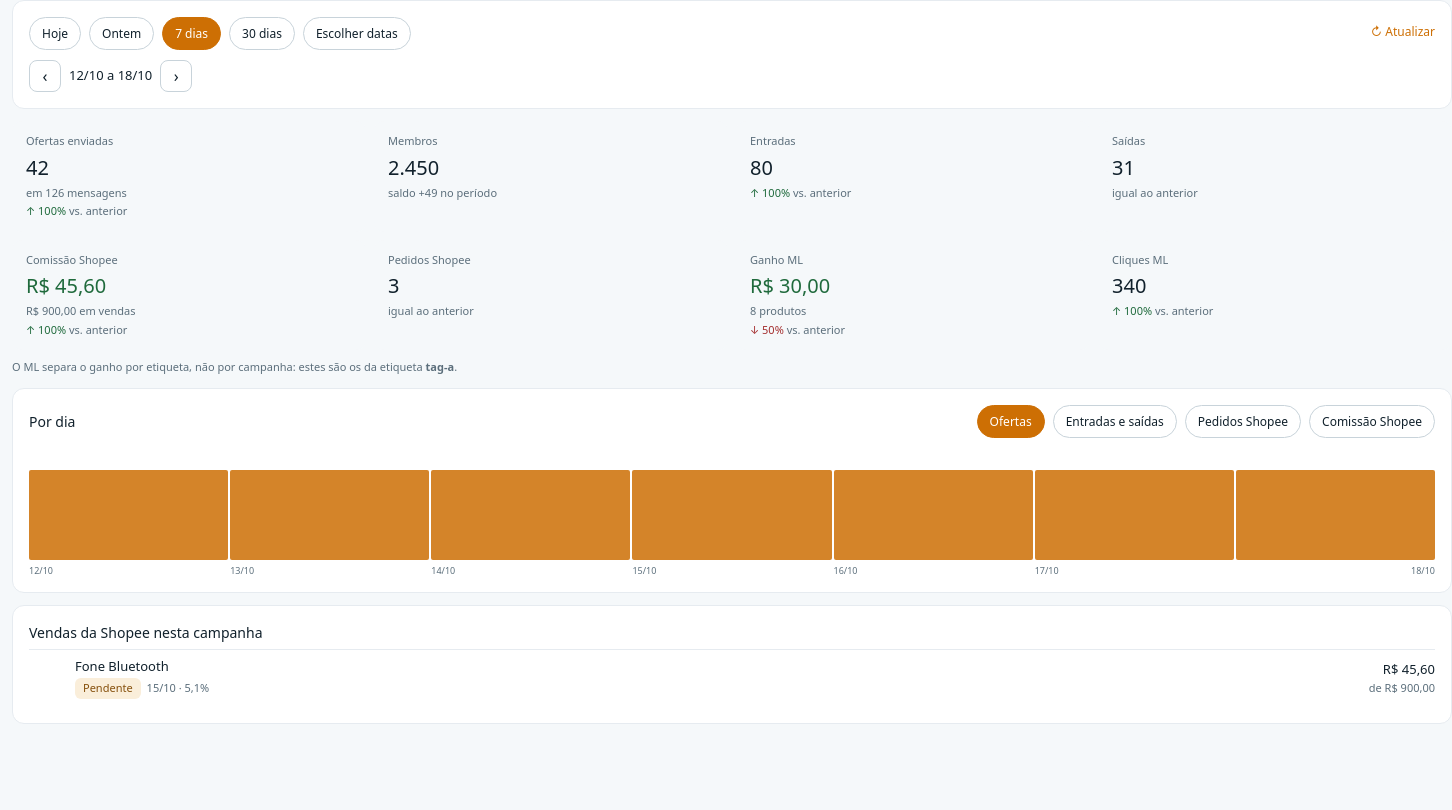
Scenario: DesempenhoCampanha › um dia só não desenha o gráfico; tocar numa barra leva pro dia
Expected: the text "Por dia" is shown, [29, 411, 76, 432]
Step 1. Click the element titled "14/10:" → (531,515), box [431, 470, 630, 560]
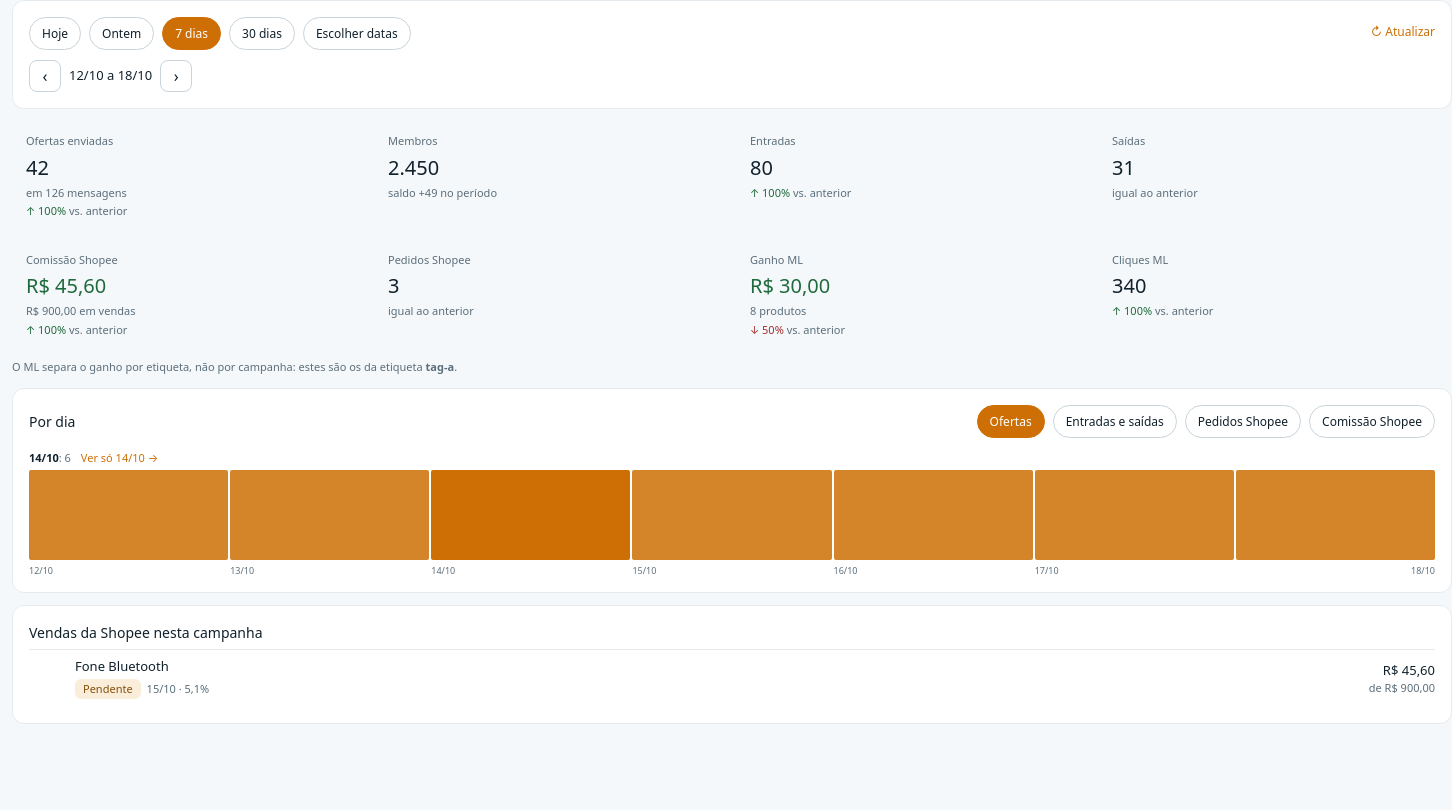
Step 2. Click the button "Ver só 14/10 →" → (120,457), box [81, 450, 158, 465]
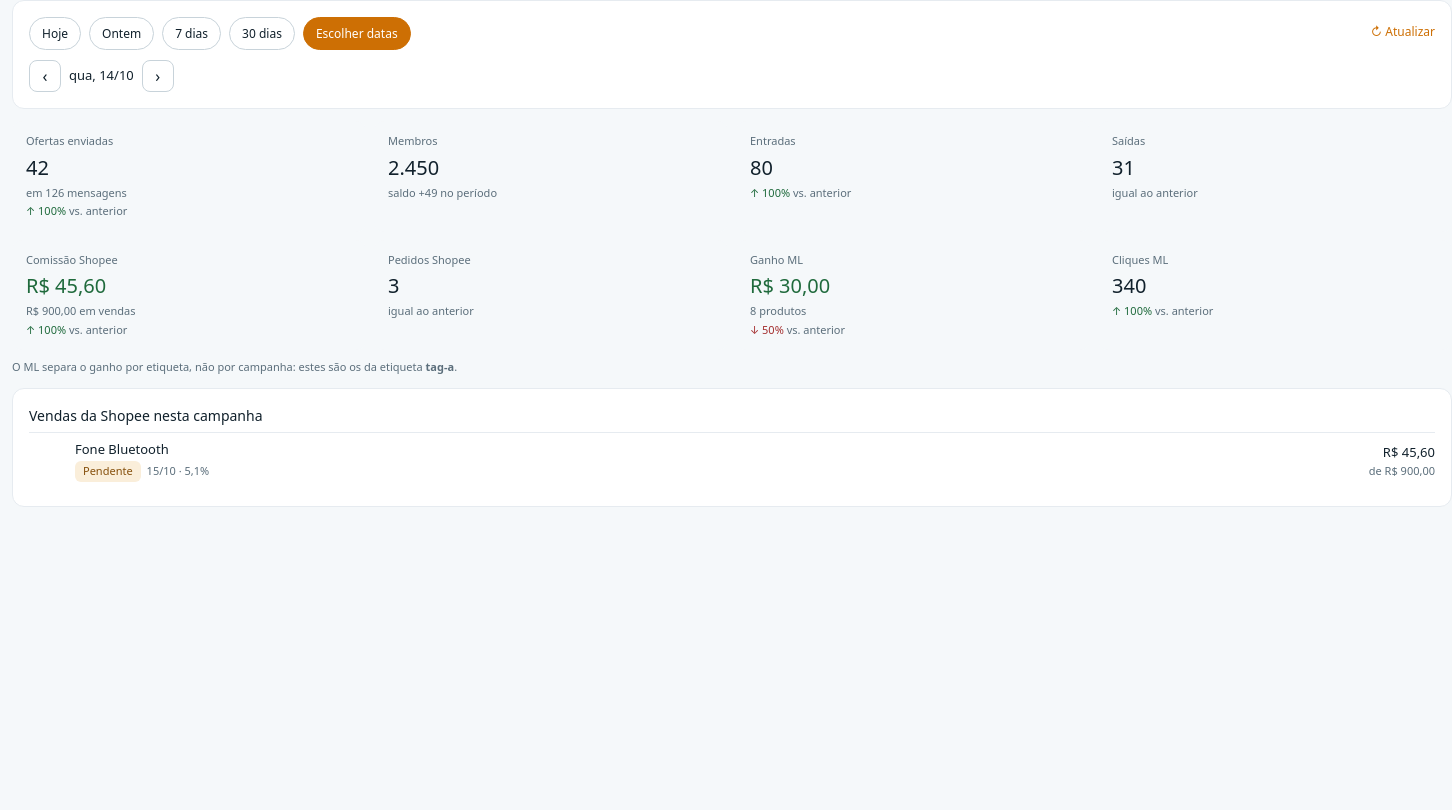
Expected: the text "Por dia" is gone
